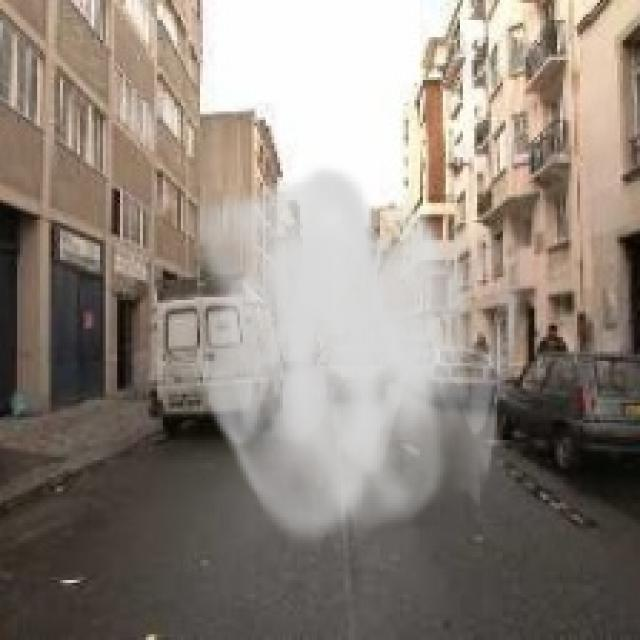smoke: (183, 163, 537, 554)
